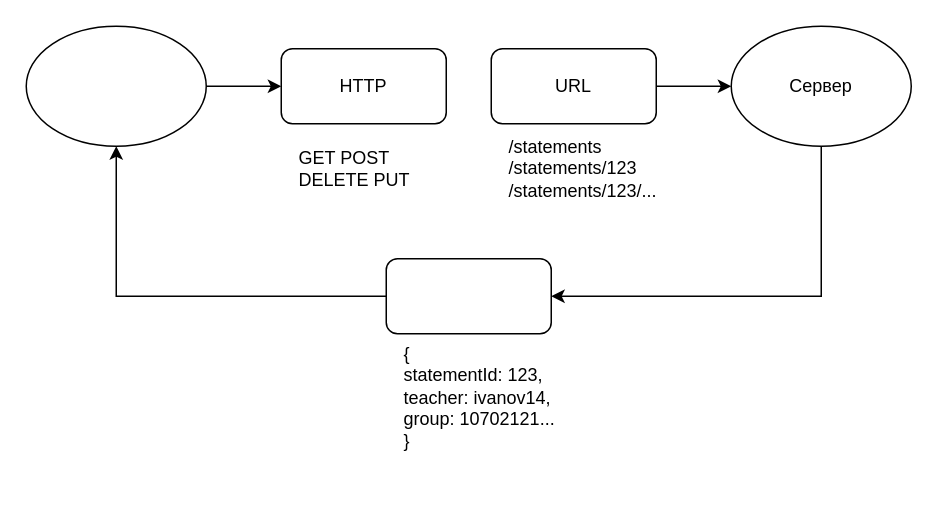
Some shapes in this 938 by 510 pixel diagram are drawn without their labels. Here are the shapes that lost their labels. From the top down, the centre of each, then its label:
the point at 115,85: Клиент
the point at 468,295: JSON
